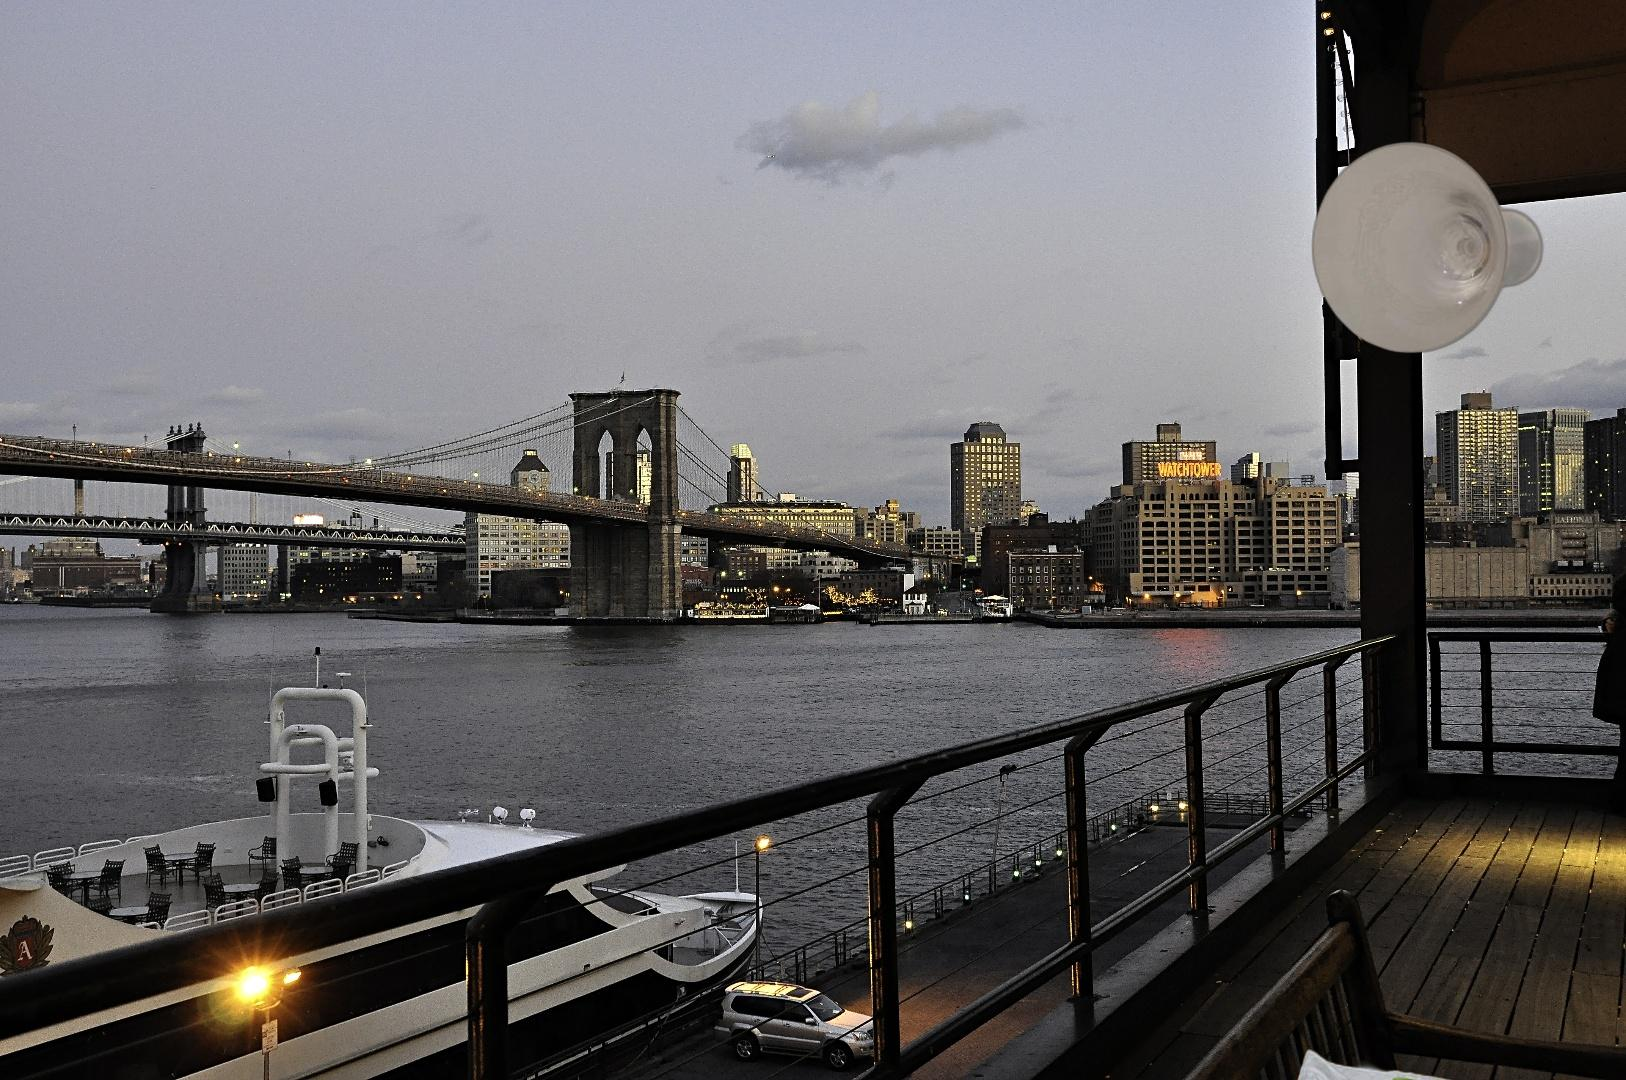clothes: (1182, 1043, 1562, 1080)
glass: (1307, 137, 1548, 357)
